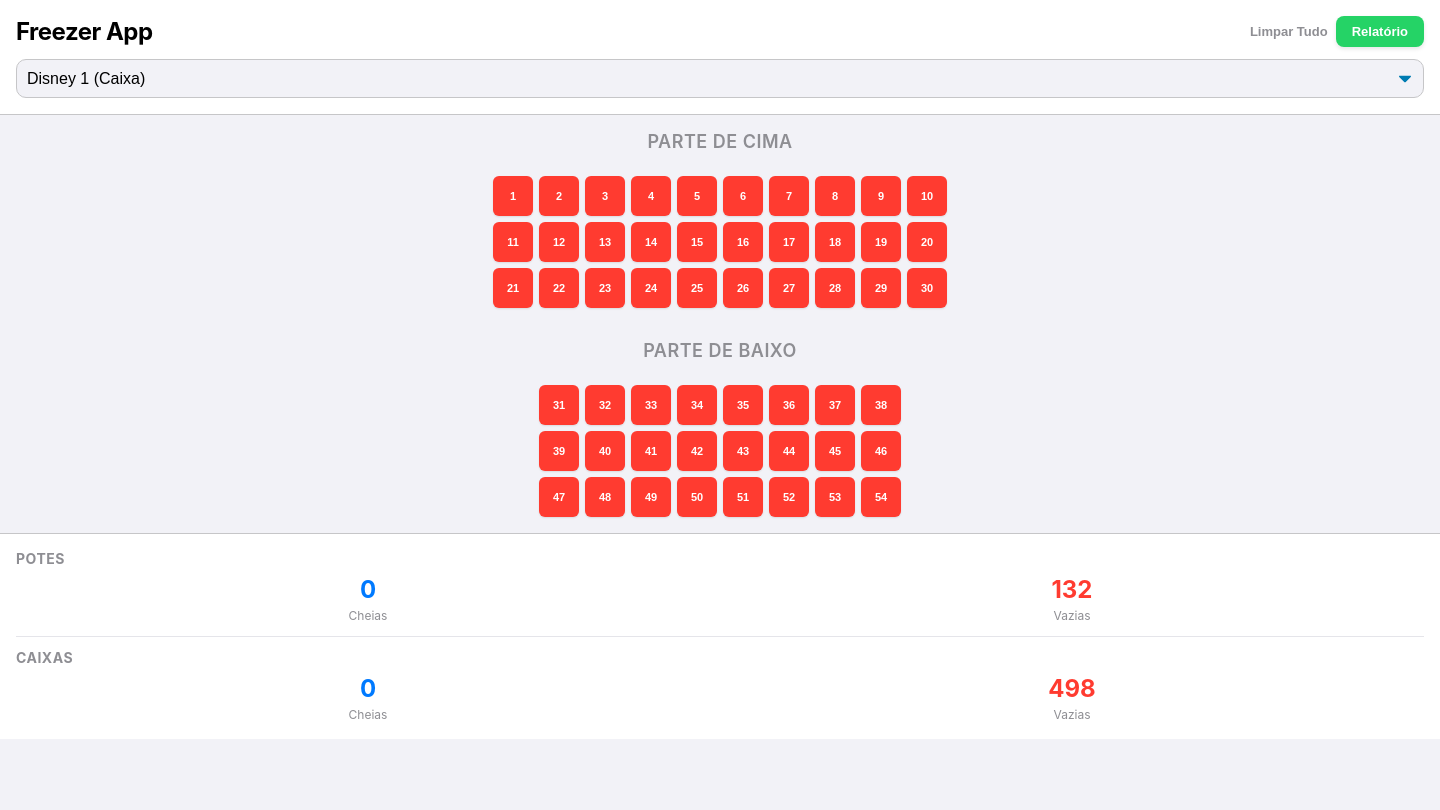
Freezer Manager Mixed Layout Tests › handles HK/Festa mixed stats correctly
The width and height of the screenshot is (1440, 810).
# Switch to HK/Festa (index 3)
Select "HK/Festa (Pote/Caixa)" in the dropdown: (720, 78) top-left (16, 59), bottom-right (1424, 98)
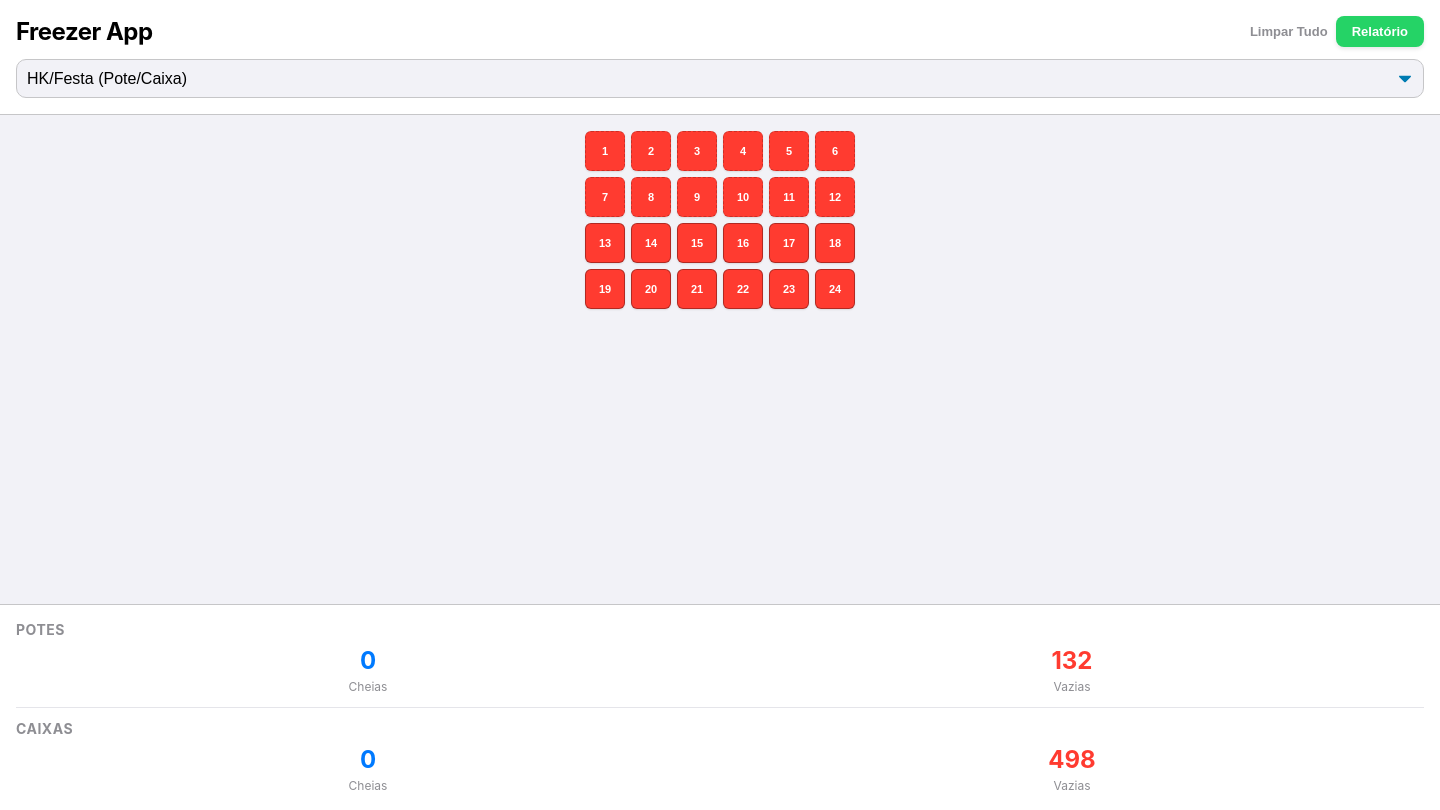
# Click slot 1 (Pote zone)
Click the button "1": (605, 151) top-left (585, 131), bottom-right (625, 171)
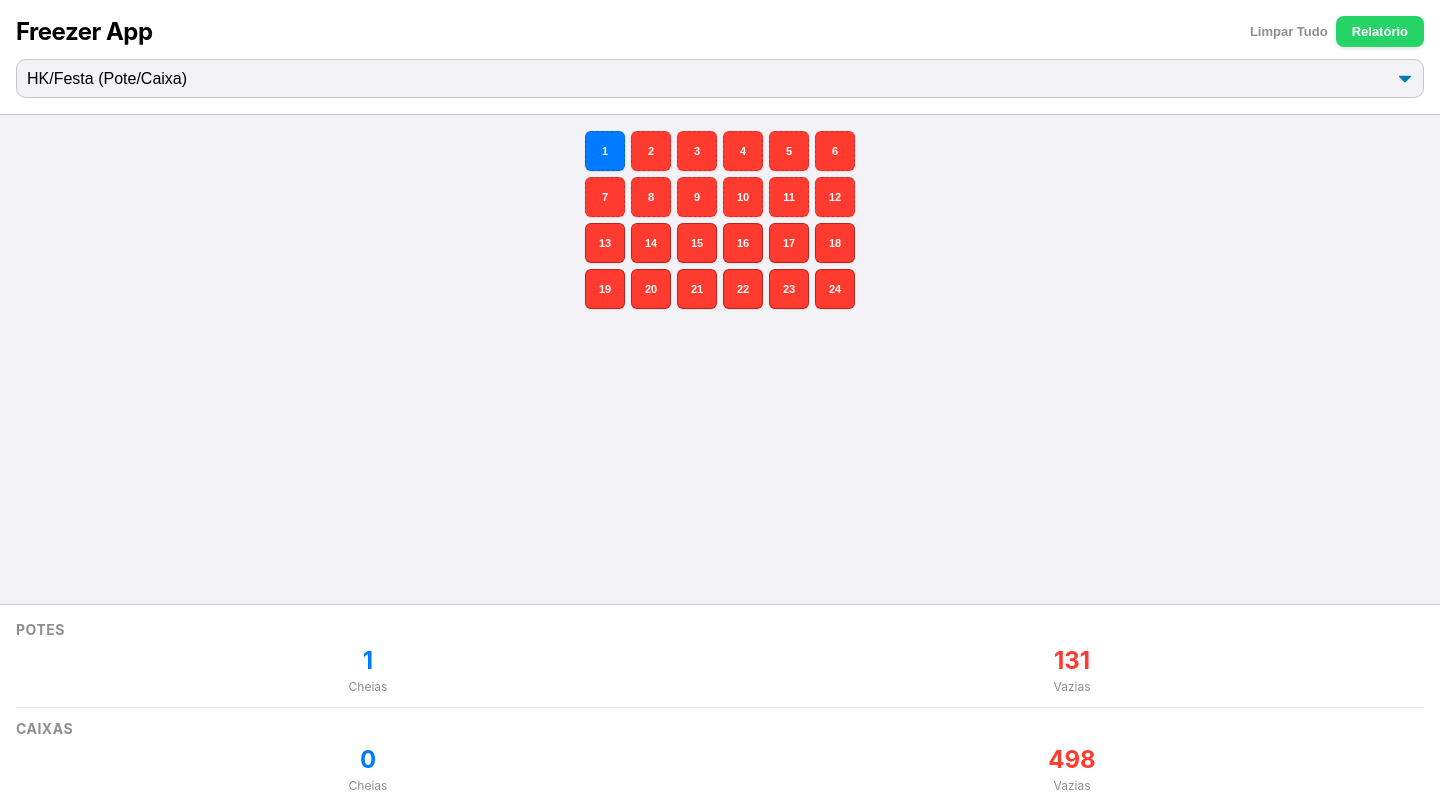
# Click slot 13 (Caixa zone)
Click the button "13": (605, 243) top-left (585, 223), bottom-right (625, 263)
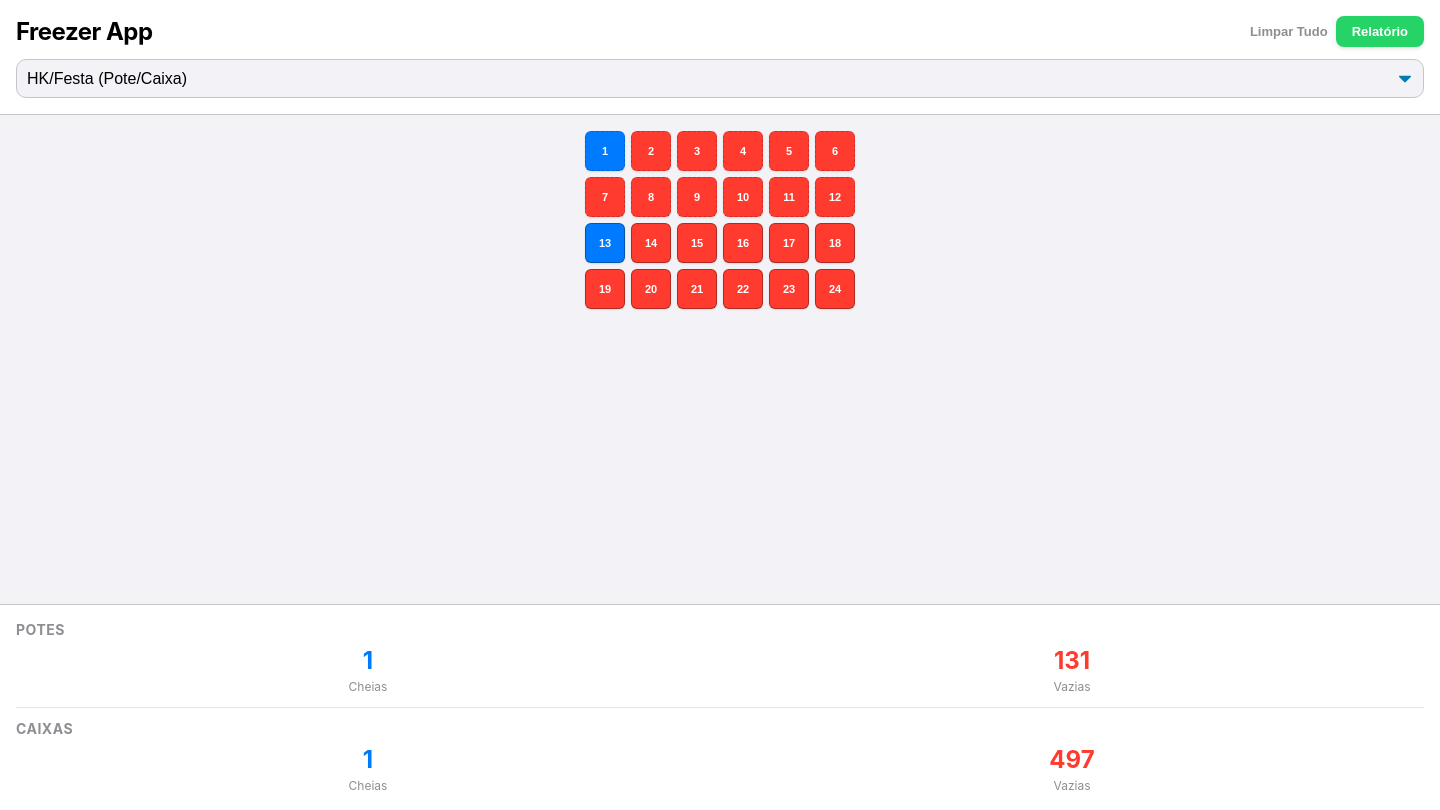
Expected: the text with class "stat-value" in the row of "131" reads "1", top-left (363, 646), bottom-right (373, 675)
Expected: the text with class "stat-value" in the row of "497" reads "1", top-left (363, 745), bottom-right (373, 774)
